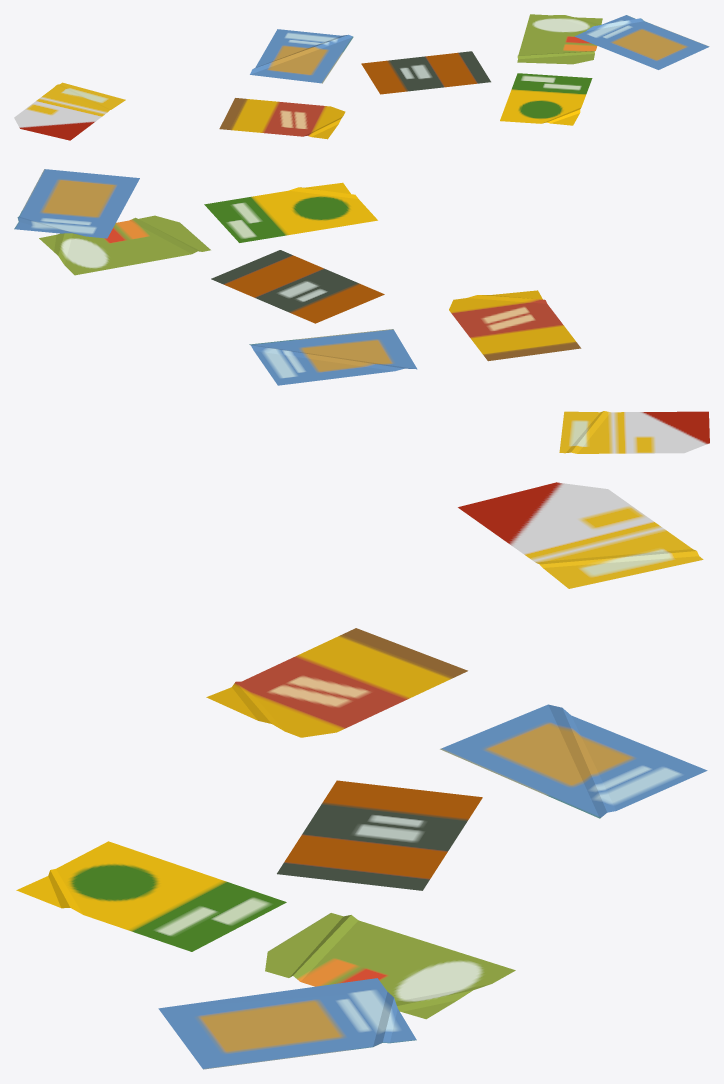
File: SM_Prop_Rubbish_Papers_01.fbx
The picture shows the model from 3 angles, top to bottom: view 1: azimuth 30°, elevation 25°; view 2: azimuth 150°, elevation 25°; view 3: azimuth 270°, elevation 25°; orthographic projection. The views are drawn at different scales.
Parts seen in each view (by area): view 1: SM_Prop_Rubbish_Papers_01; view 2: SM_Prop_Rubbish_Papers_01; view 3: SM_Prop_Rubbish_Papers_01.
Boxes of the visible parts, left/top/right/bottom form: SM_Prop_Rubbish_Papers_01: left=14, top=14, right=709, bottom=140; SM_Prop_Rubbish_Papers_01: left=14, top=169, right=709, bottom=453; SM_Prop_Rubbish_Papers_01: left=16, top=482, right=707, bottom=1069.
Bounding box in the file's own units: 204 × 0.7541 × 102.
